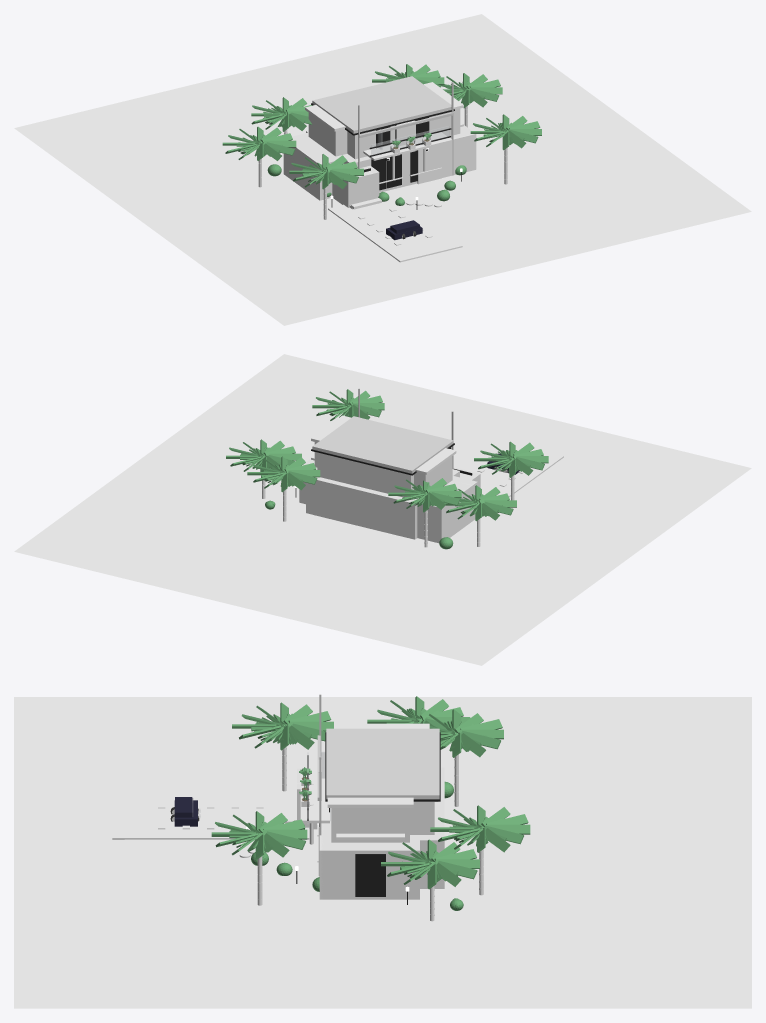
3 renders of one model, top to bottom at view 1: azimuth 30°, elevation 25°; view 2: azimuth 150°, elevation 25°; view 3: azimuth 270°, elevation 25°, orthographic. The views are drawn at different scales.
Parts seen in each view (by area): view 1: Ground, Lawn_Front, Parapet_Main, Driveway, Lawn_Left, Lawn_Right, Stone_Right, GF_Entrance, FF_Left, Wood_Panel_2, GF_Left, Wood_Panel_1 (+5 smaller); view 2: Ground, Parapet_Main, GF_Main, Lawn_Left, Lawn_Right, FF_Main, Driveway, Lawn_Front, GF_Left, Wood_Panel_2, FF_Left; view 3: Ground, Lawn_Front, Parapet_Main, Lawn_Right, Driveway, GF_Right, FF_Right, Lawn_Left, GF_Side_Frame_1, Balcony_Main, GF_Main, Roof_Right (+1 smaller).
Boxes of the visible parts, x1,y1,x2,y2 form: Ground: (14,14,751,325); Lawn_Front: (312,159,561,259); Parapet_Main: (312,76,451,133); Driveway: (328,193,462,262); Lawn_Left: (207,159,316,217); Lawn_Right: (460,109,540,162); Stone_Right: (441,134,476,177); GF_Entrance: (332,165,379,207); FF_Left: (308,113,347,156); Wood_Panel_2: (283,147,321,200); GF_Left: (291,132,351,199); Wood_Panel_1: (417,144,441,184); Ground: (14,354,751,665); Parapet_Main: (312,416,453,473); GF_Main: (306,469,459,539); Lawn_Left: (394,517,540,570); Lawn_Right: (207,468,312,524); FF_Main: (317,452,413,497); Driveway: (463,441,563,497); Lawn_Front: (388,420,561,520); GF_Left: (386,476,476,543); Wood_Panel_2: (440,481,477,538); FF_Left: (414,456,452,490); Ground: (14,697,751,1008); Lawn_Front: (124,829,345,908); Parapet_Main: (326,728,439,799); Lawn_Right: (333,884,481,946); Driveway: (112,796,309,839); GF_Right: (321,819,419,899); FF_Right: (331,808,409,842); Lawn_Left: (440,759,481,821); GF_Side_Frame_1: (355,854,385,896); Balcony_Main: (300,768,329,823); GF_Main: (322,767,444,888); Roof_Right: (327,797,413,807).
Bounding box in the file's own units: 60 × 15.2 × 60.
